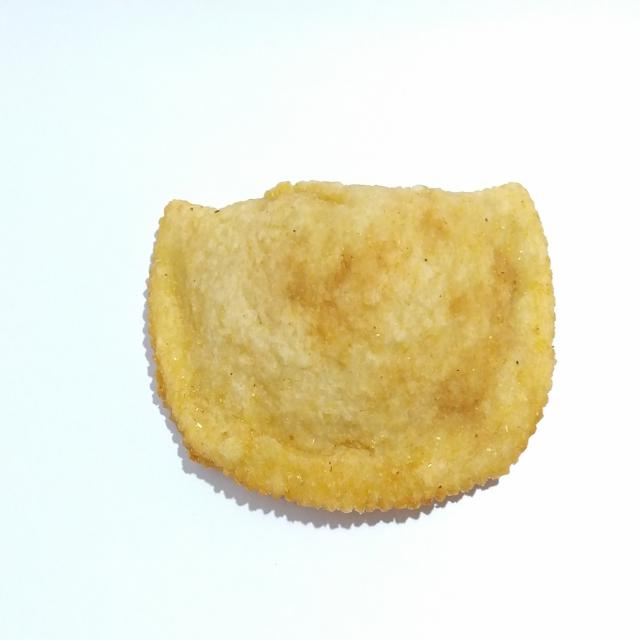Food: (131, 164, 560, 540)
